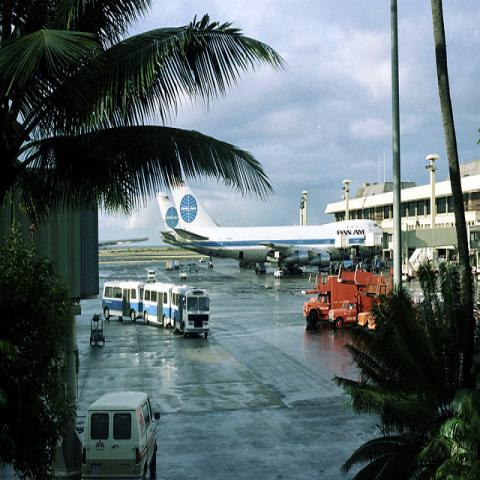bus: (168, 284, 214, 342), (101, 281, 146, 324), (142, 283, 175, 329)
car: (87, 388, 160, 472), (148, 270, 156, 282)
truck: (329, 276, 393, 330), (302, 279, 356, 326), (319, 269, 391, 293)
